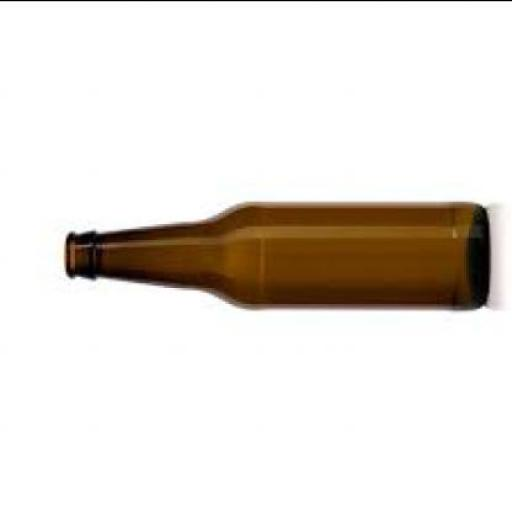glass: (66, 198, 487, 307)
